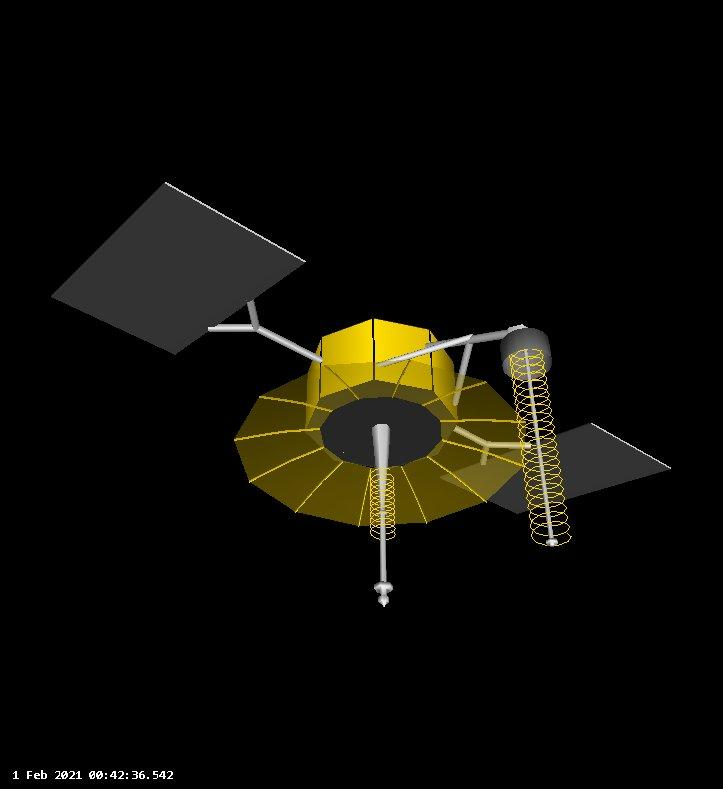antenna: (232, 357, 528, 609), (497, 326, 575, 550)
body: (302, 315, 461, 465)
solar: (48, 179, 310, 359), (437, 420, 676, 516)
